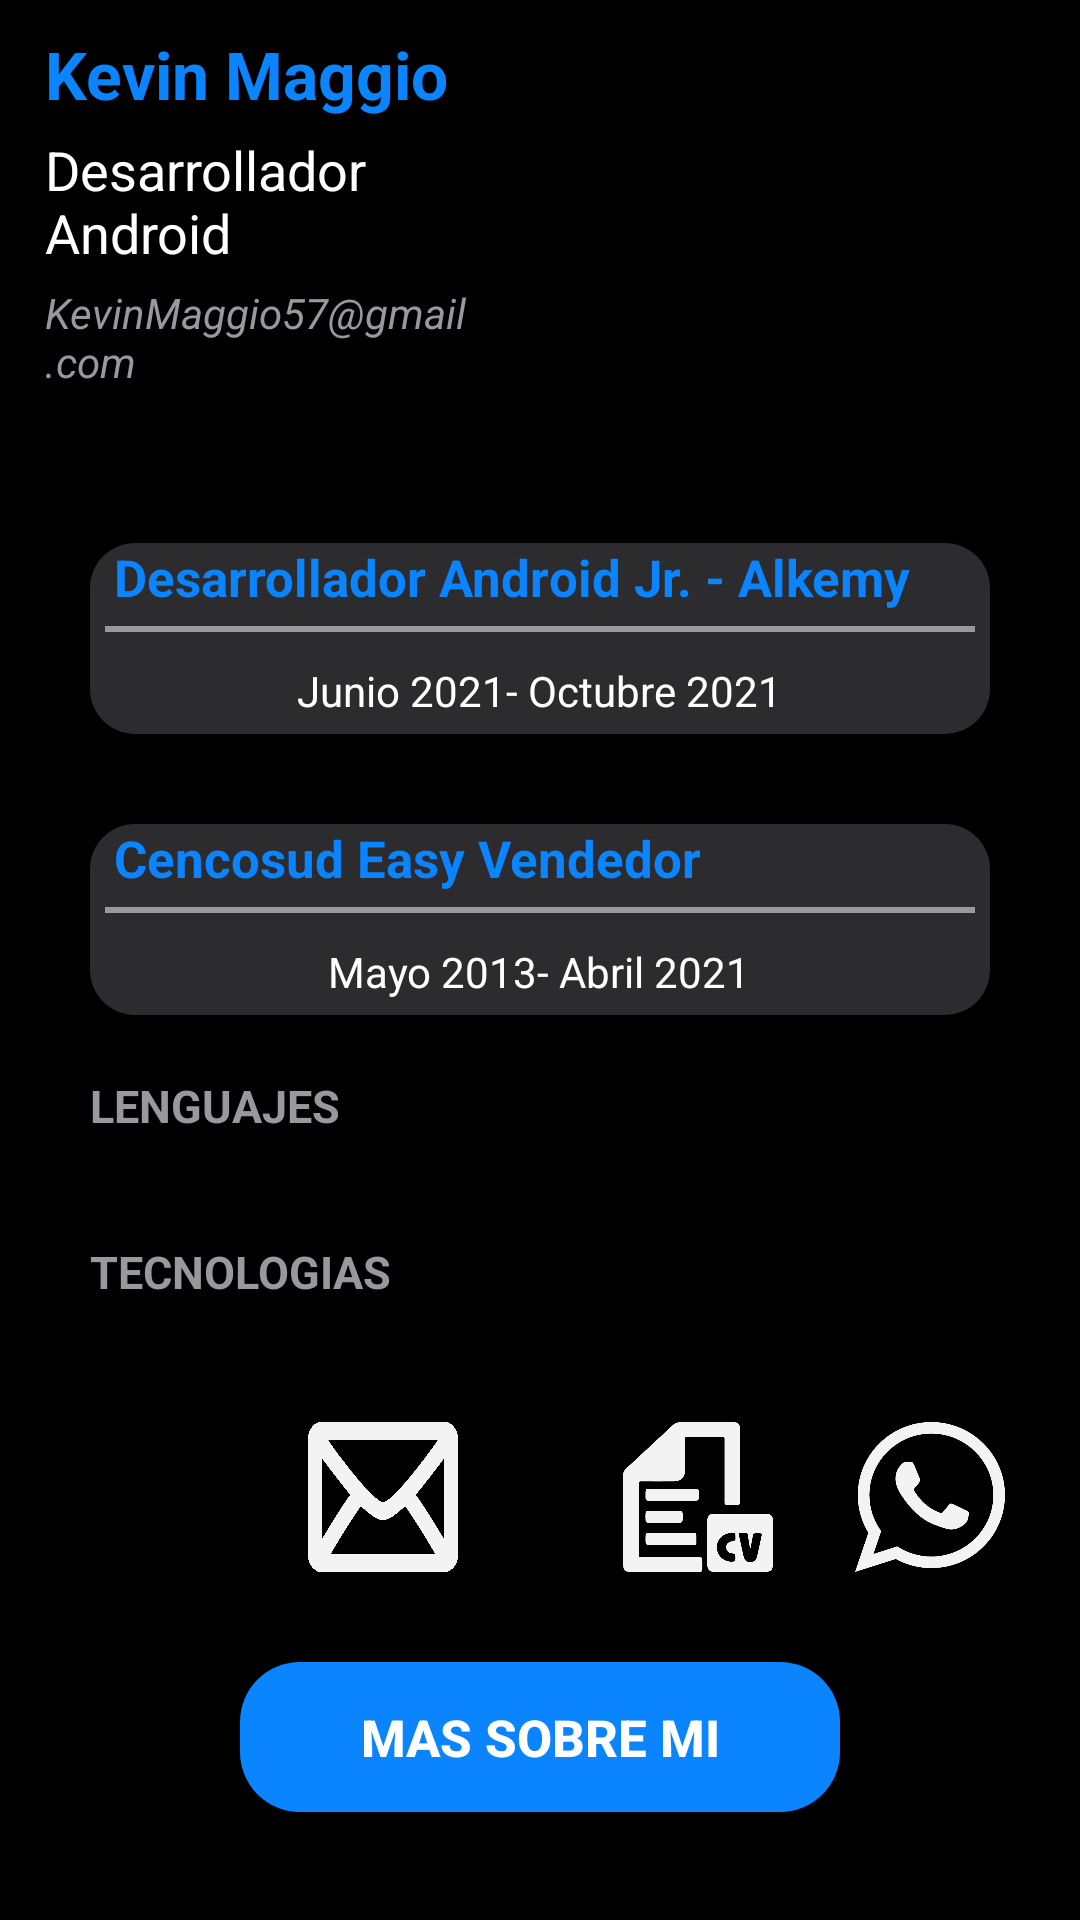

Icons on this 1080 × 1920 Android screen, each with its box as (x1, y1, x2, y2):
correo: (308, 1422, 458, 1572)
